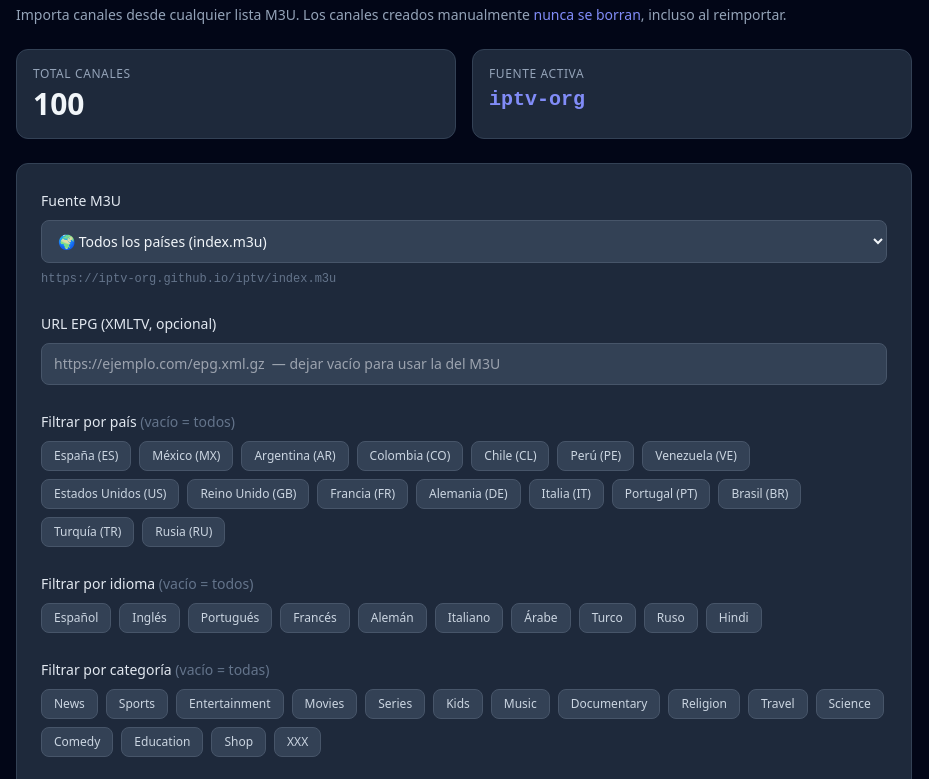
Test: IPTVPage › toggles language filter
Click the button "Español" at (76, 618), box [41, 603, 111, 633]
(page scrolled)
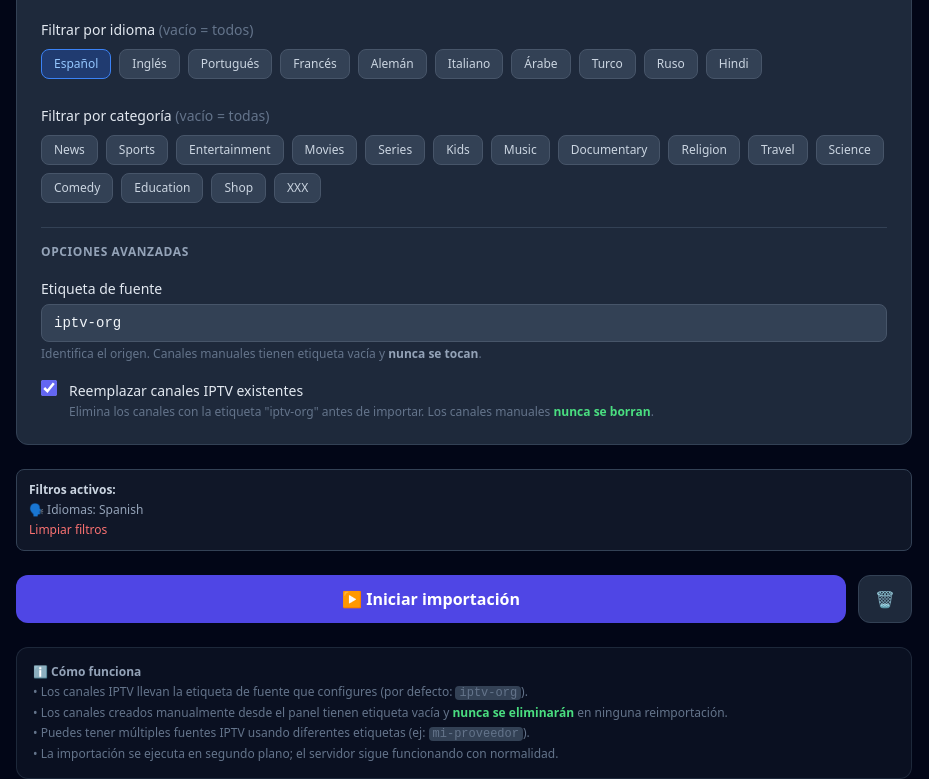
Expected: the text "Filtros activos:" is shown, [29, 481, 116, 498]
Expected: the text "🗣️ Idiomas: Spanish" is shown, [29, 501, 143, 518]
